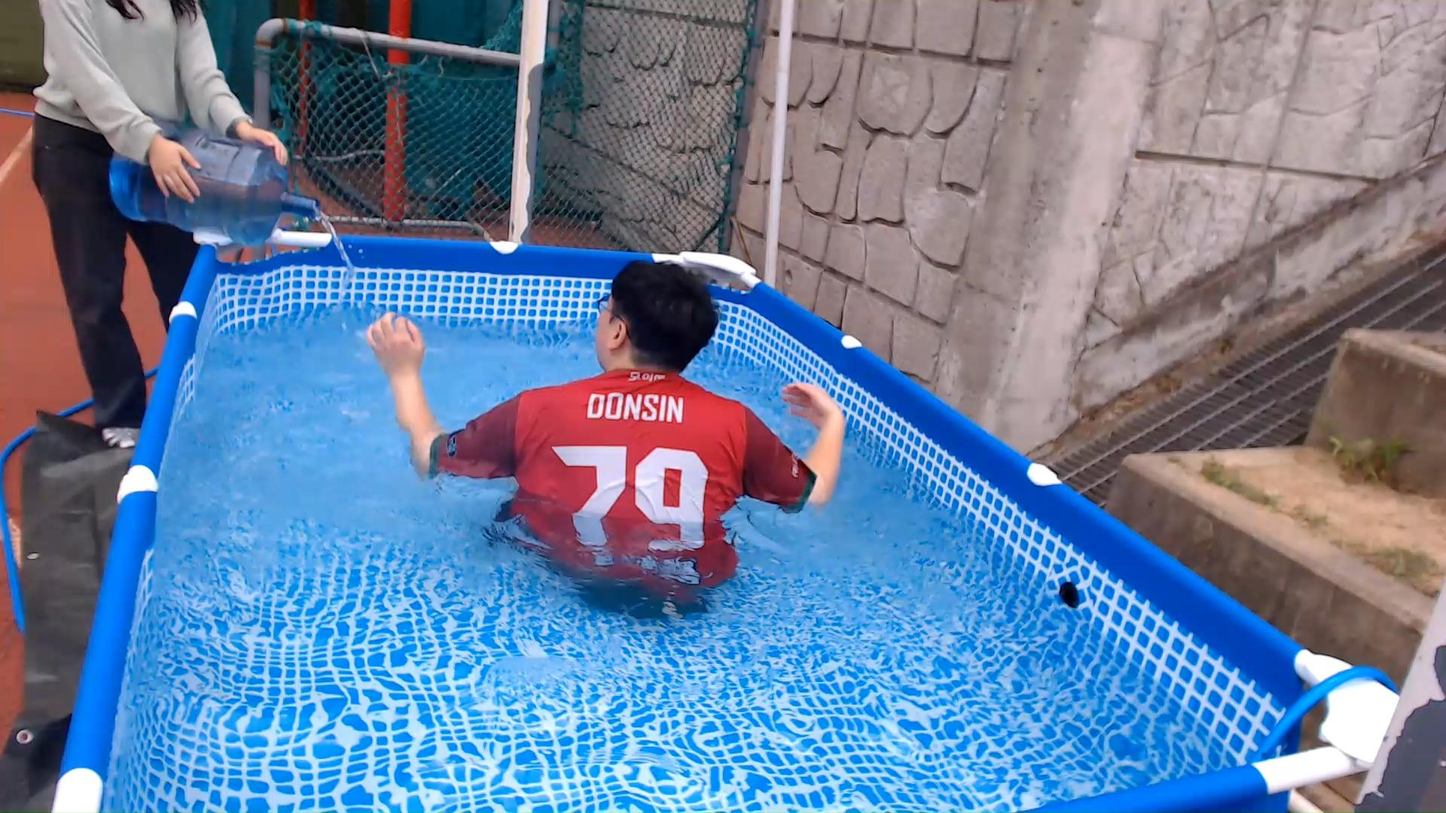Swimming: (333, 207, 890, 647)
